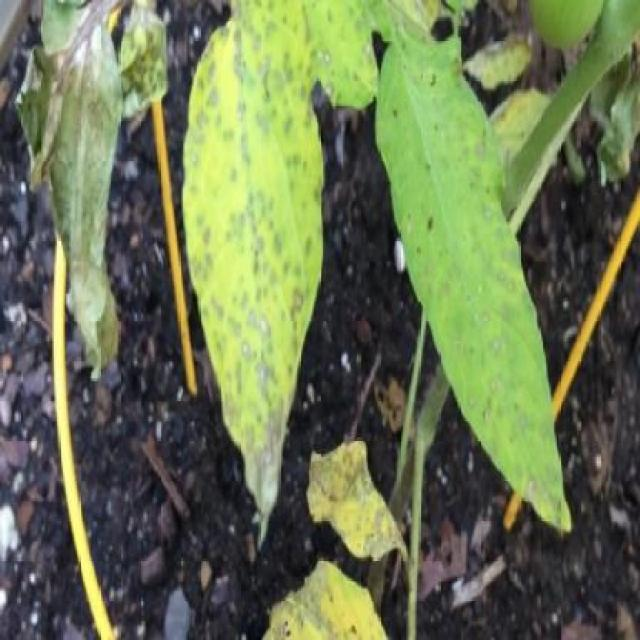Septoria leaf spot: (372, 20, 575, 543), (179, 18, 335, 569)
